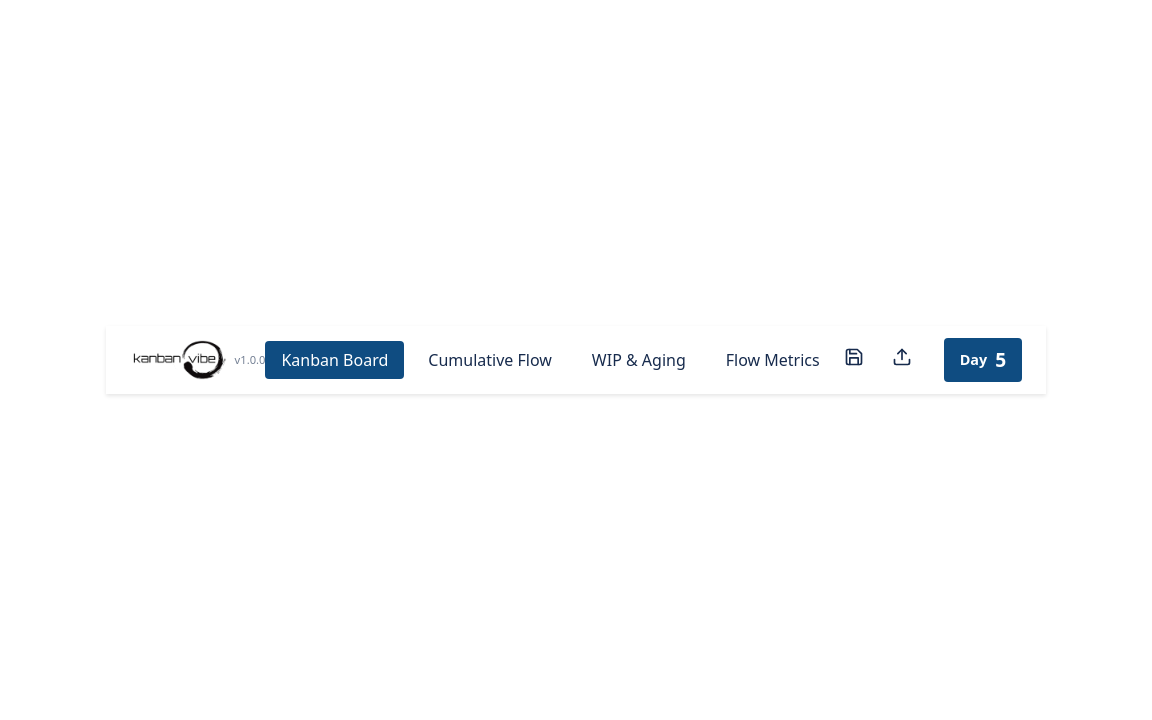
Test: NavigationBar Component › Reset Board › closes confirmation dialog after confirming
This screenshot has width=1152, height=720.
Click the button named "Save options". click: (854, 360)
box: [836,340,872,380]
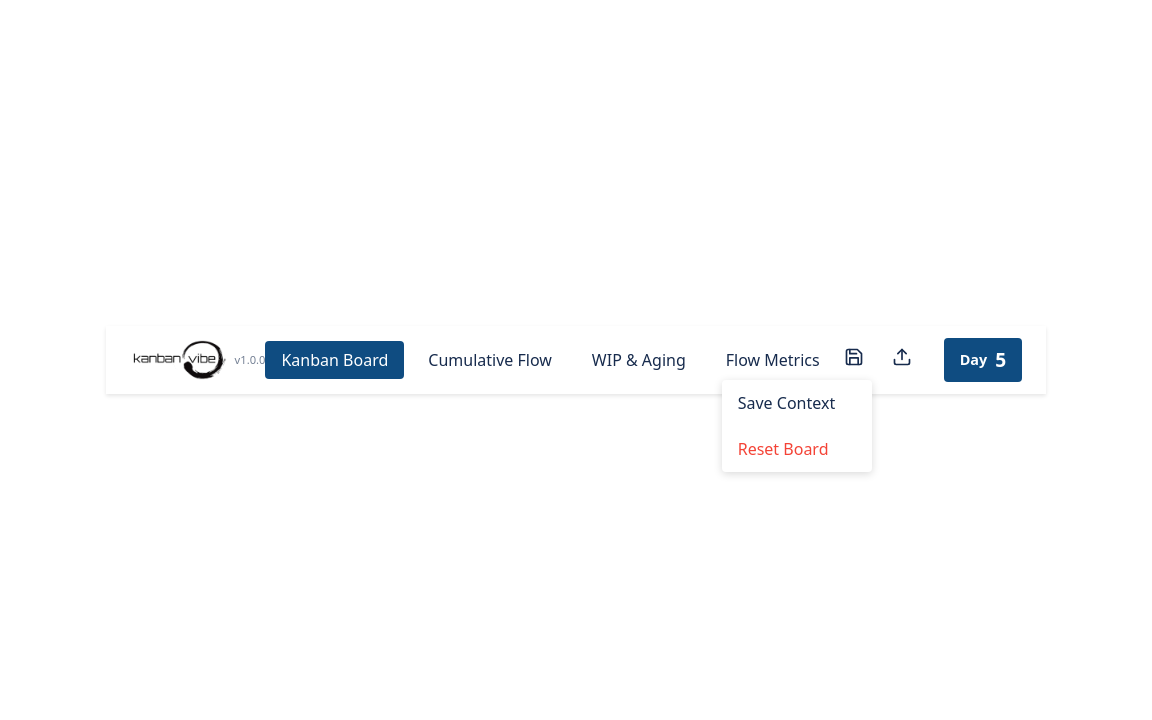
Click the button "Reset Board". click: (797, 450)
box: [722,426,872,472]
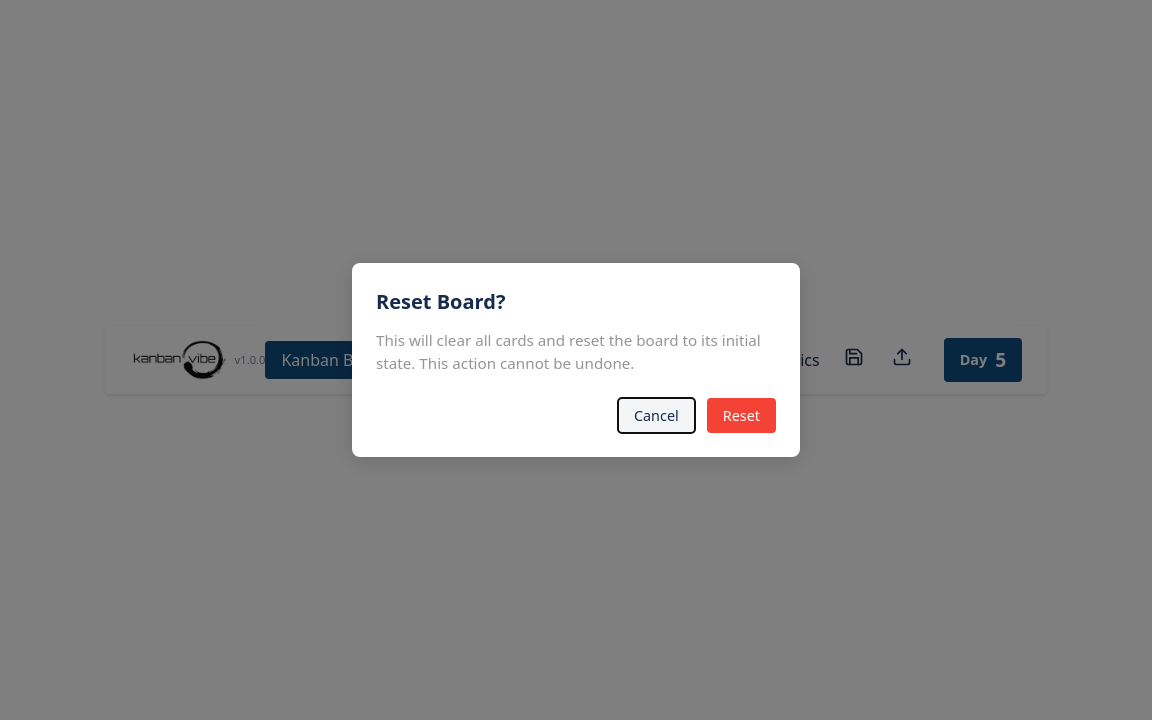
Click the button "Reset". click: (741, 416)
box: [707,398,776,433]
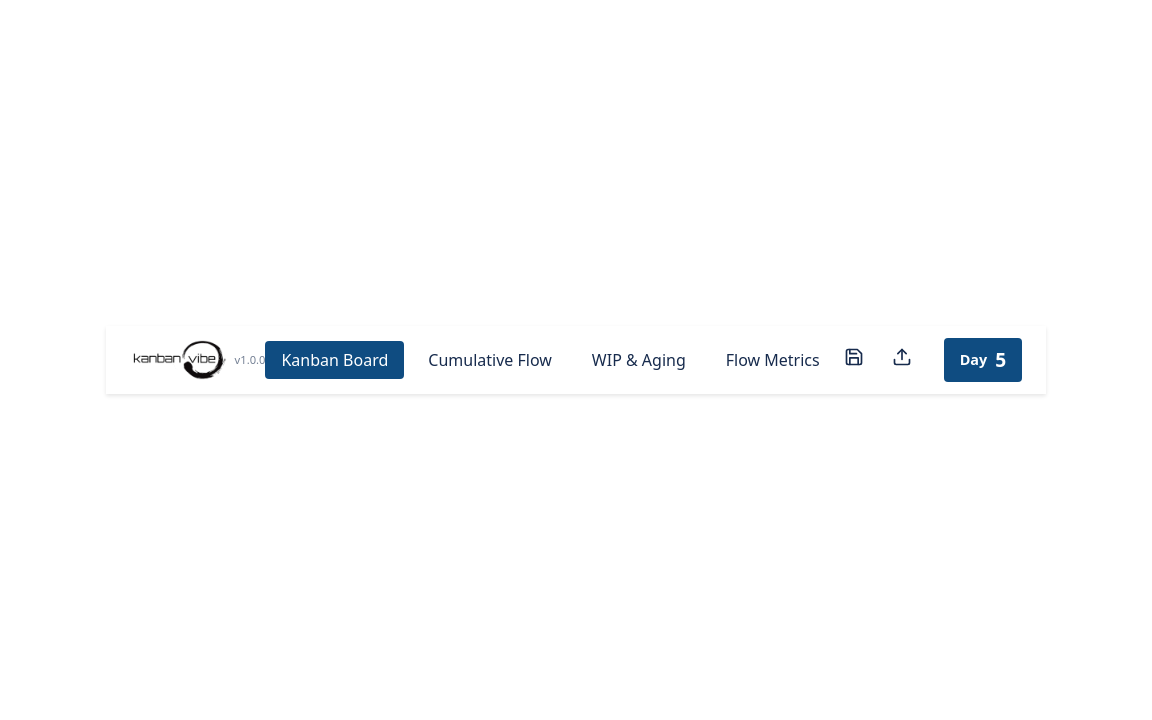
Expected: the dialog is gone
